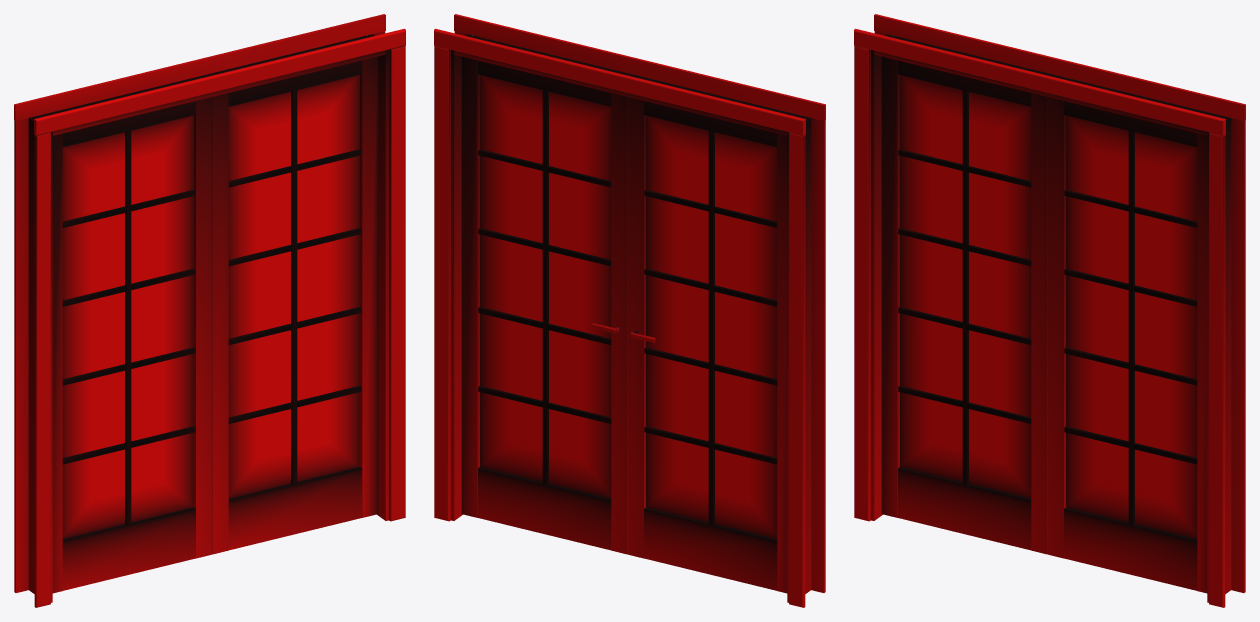
File: CI_Shell_Door_French.fbx
3 renders of one model, left to right at view 1: azimuth 30°, elevation 25°; view 2: azimuth 150°, elevation 25°; view 3: azimuth 330°, elevation 25°, orthographic.
Visible parts, largest first — view 1: CI_Shell_Door_French; view 2: CI_Shell_Door_French; view 3: CI_Shell_Door_French.
Boxes of the visible parts, box(x1,y1,x2,y2) form: CI_Shell_Door_French: box(14, 14, 405, 607); CI_Shell_Door_French: box(434, 14, 825, 607); CI_Shell_Door_French: box(854, 14, 1245, 607).
Bounding box in the file's own units: 1.72 × 2.17 × 0.186.
